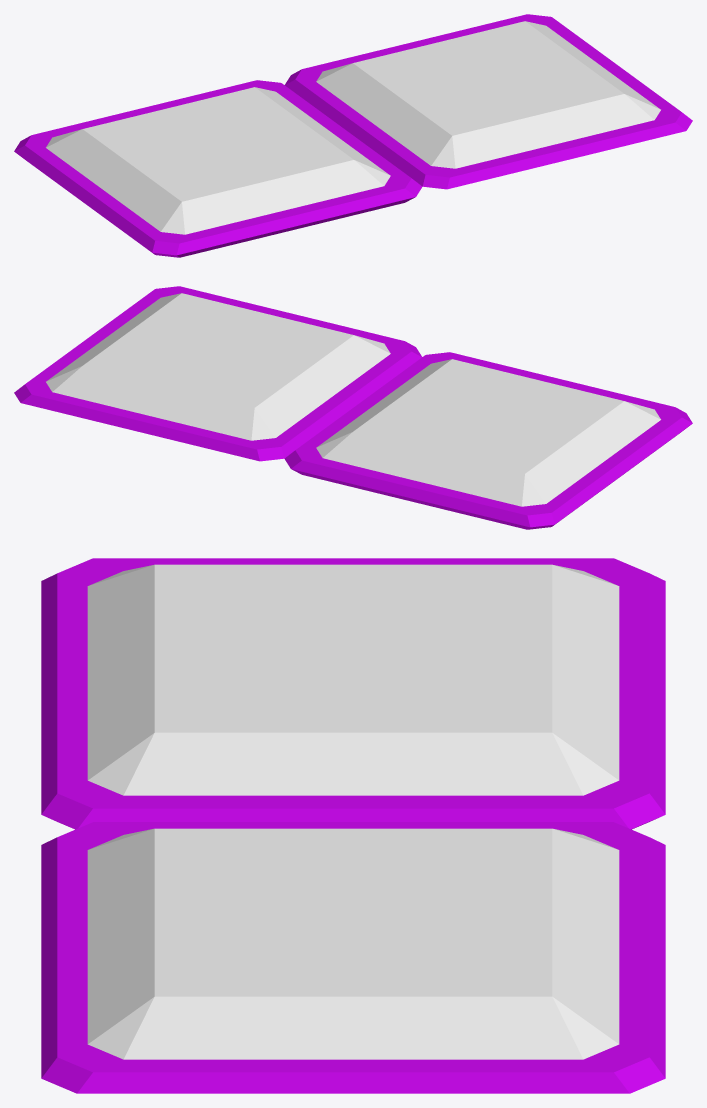
Rendered from blocks.fbx.
3 renders of one model, top to bottom at view 1: azimuth 30°, elevation 25°; view 2: azimuth 150°, elevation 25°; view 3: azimuth 270°, elevation 25°, orthographic. The views are drawn at different scales.
Parts seen in each view (by area): view 1: Cube, Cube.001; view 2: Cube, Cube.001; view 3: Cube.001, Cube.
Part boxes in pixels (left/top/right/bottom): Cube: left=14, top=80, right=422, bottom=257; Cube.001: left=285, top=14, right=692, bottom=189; Cube: left=284, top=352, right=692, bottom=529; Cube.001: left=14, top=286, right=421, bottom=461; Cube.001: left=41, top=822, right=665, bottom=1093; Cube: left=41, top=558, right=665, bottom=829.
Bounding box in the file's own units: 400 × 35.2 × 200.
